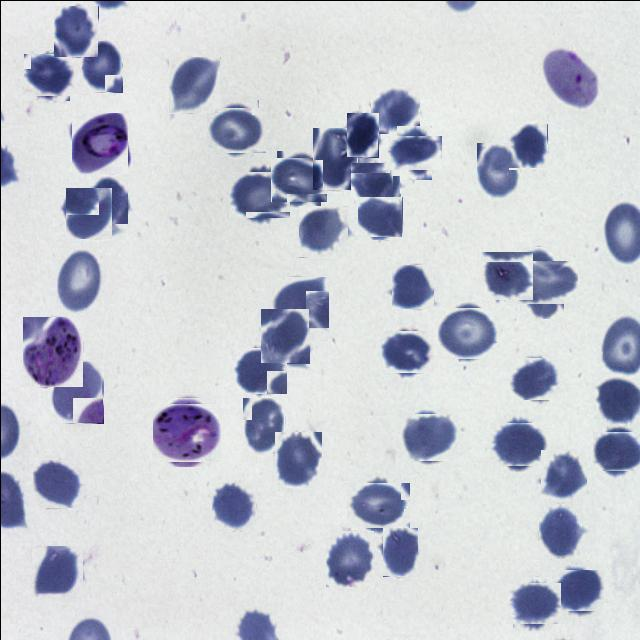gametocyte: (154, 399, 218, 464)
red blood cell: (512, 253, 570, 311), (439, 304, 496, 362), (56, 248, 104, 315), (52, 361, 102, 423), (271, 274, 326, 330), (168, 56, 220, 113), (232, 167, 286, 221), (350, 478, 404, 532), (312, 127, 357, 190), (404, 410, 456, 462), (30, 544, 82, 596), (210, 103, 262, 155), (260, 308, 309, 363), (325, 530, 373, 586), (492, 418, 544, 469), (274, 431, 321, 487), (298, 205, 348, 257), (273, 153, 323, 204), (235, 345, 285, 395), (33, 458, 83, 508), (480, 250, 530, 300), (63, 188, 113, 238), (476, 142, 519, 199), (370, 84, 419, 133), (242, 397, 284, 454), (538, 503, 581, 558), (540, 449, 586, 500), (53, 5, 98, 57), (383, 326, 431, 374), (509, 579, 557, 627), (554, 566, 600, 614), (512, 354, 558, 402), (211, 482, 256, 531), (81, 40, 122, 92), (24, 52, 70, 98), (350, 162, 400, 204), (595, 428, 640, 474), (392, 130, 436, 174), (358, 194, 401, 237), (391, 264, 433, 308), (86, 178, 127, 223), (508, 122, 547, 168), (382, 527, 418, 576), (346, 112, 378, 157)
ring: (541, 45, 599, 108)
trophozoite: (22, 316, 82, 386), (69, 114, 128, 172)
